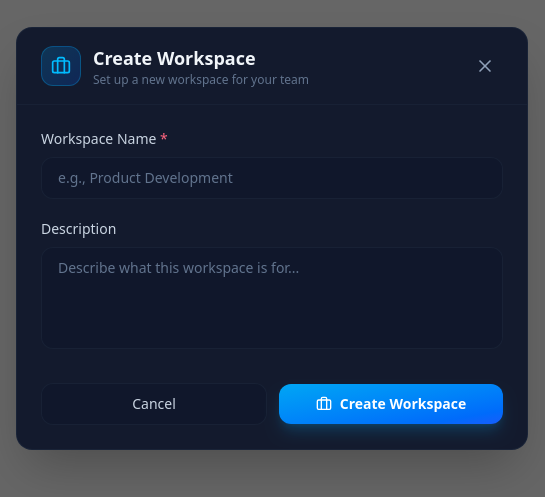
Test: WorkspacePopup › validation › shows name required error when submitting empty form
Click the button "Create Workspace". click: (391, 404)
box: 279,384 -> 503,424
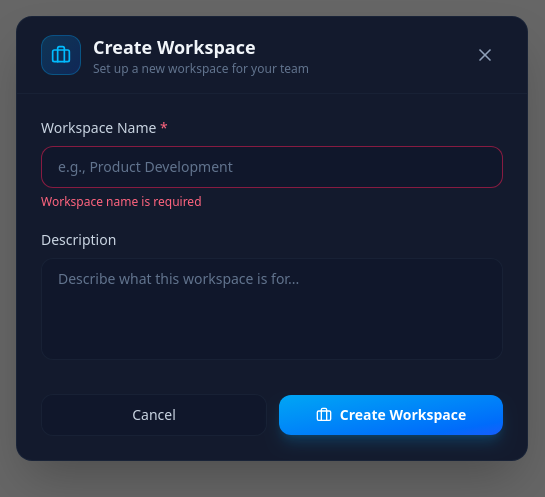
Now the text "Workspace name is required" is shown, box 41,192 -> 202,210
